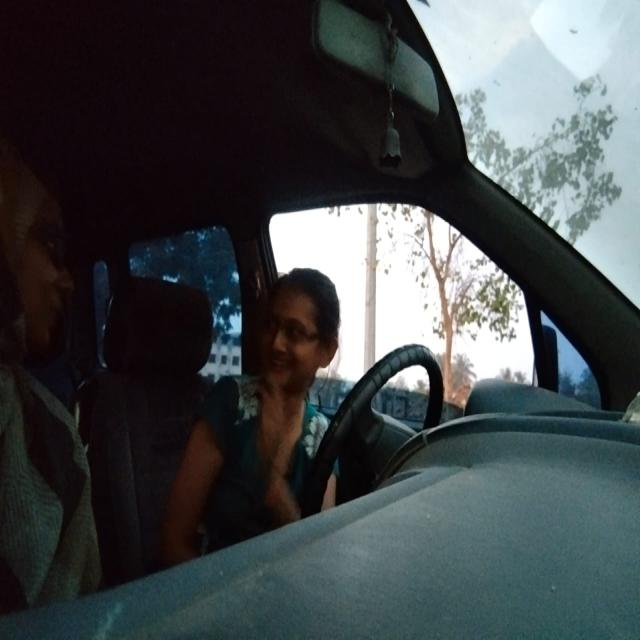LeftRight: (6, 168, 79, 358), (252, 275, 340, 383)
talking: (258, 350, 296, 376)
